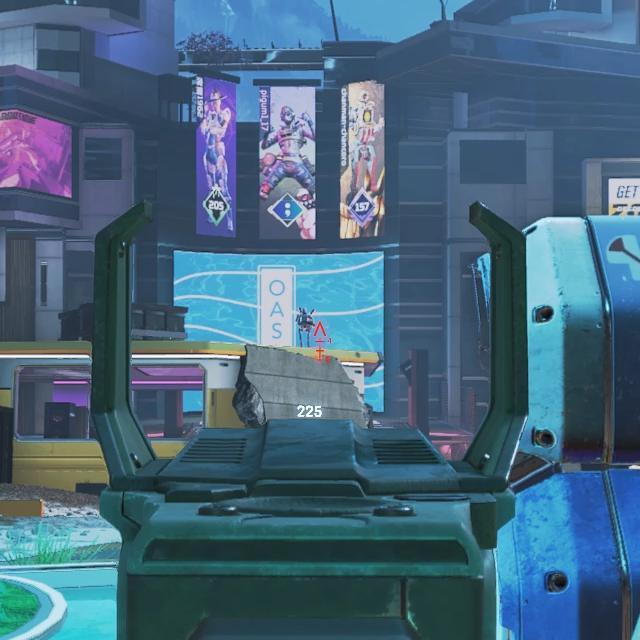avatar: (295, 307, 315, 346)
